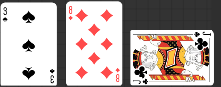3C: (1, 5, 8, 23)
JC: (192, 30, 211, 38), (132, 77, 149, 85)
